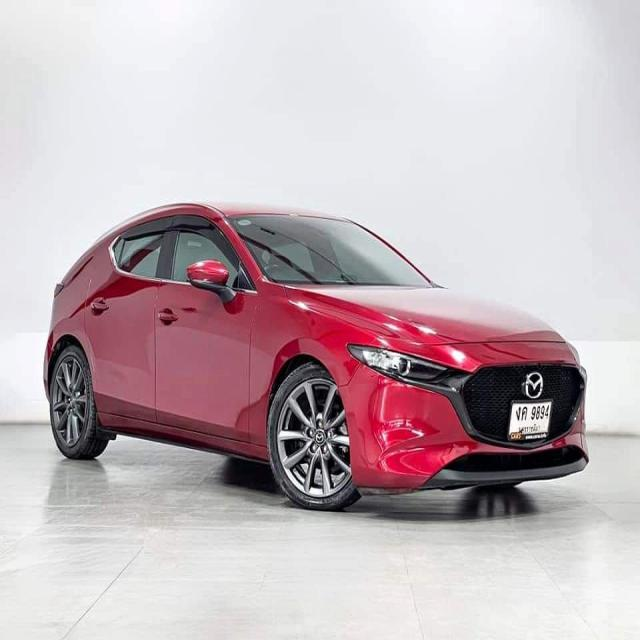Hatchback: (43, 203, 591, 512)
